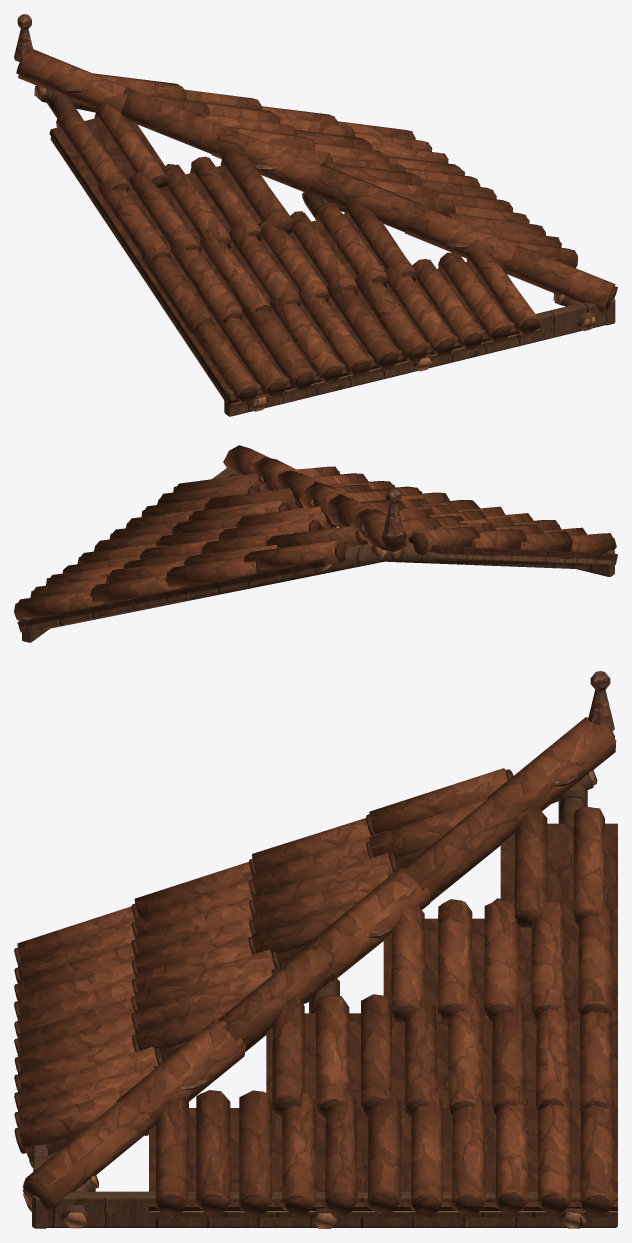
File: roof_26_outer__clay_brick.glb
3 views of the same model, one above another, from view 1: azimuth 30°, elevation 25°; view 2: azimuth 150°, elevation 25°; view 3: azimuth 270°, elevation 25° (orthographic). The views are drawn at different scales.
Parts seen in each view (by area): view 1: model; view 2: model; view 3: model.
Boxes of the visible parts, x1,y1,x2,y2 form: model: [14, 14, 617, 416]; model: [14, 445, 617, 642]; model: [14, 671, 617, 1228].
Bounding box in the file's own units: 2.06 × 1.2 × 2.06.
8 materials, 8 textured.
